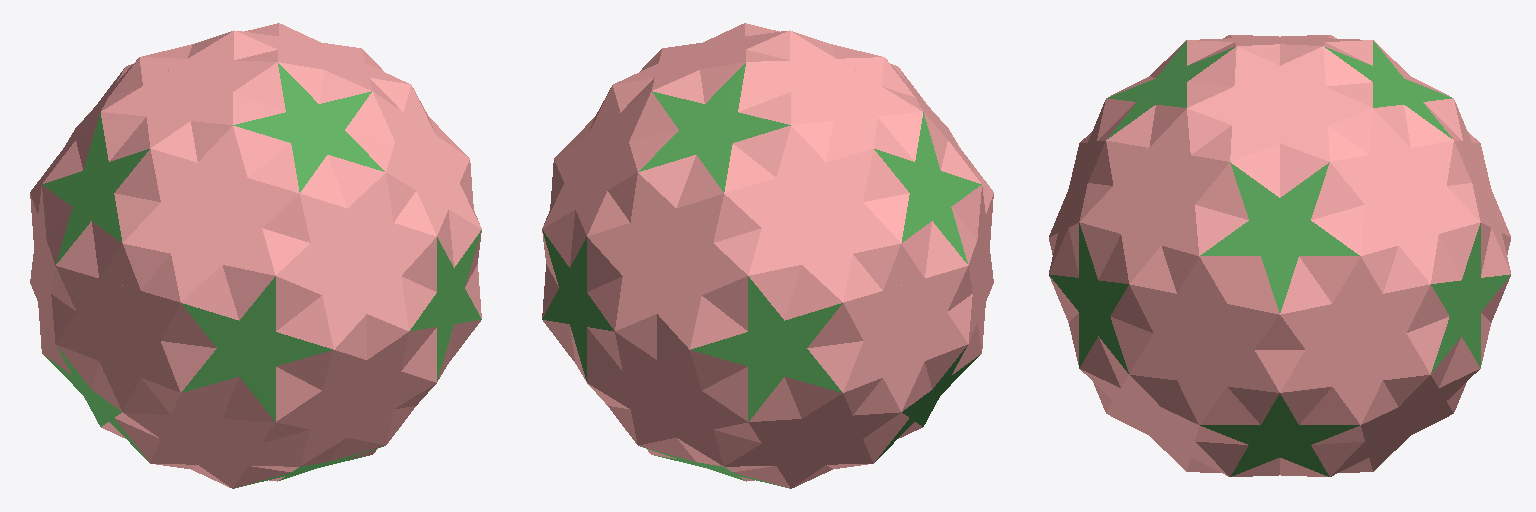
The model's file is SmallSnubIcosicosidodecahedron.obj.
3 renders of one model, left to right at view 1: azimuth 30°, elevation 25°; view 2: azimuth 150°, elevation 25°; view 3: azimuth 270°, elevation 25°, orthographic.
Bounding box in the file's own units: 2.87 × 2.87 × 2.87.